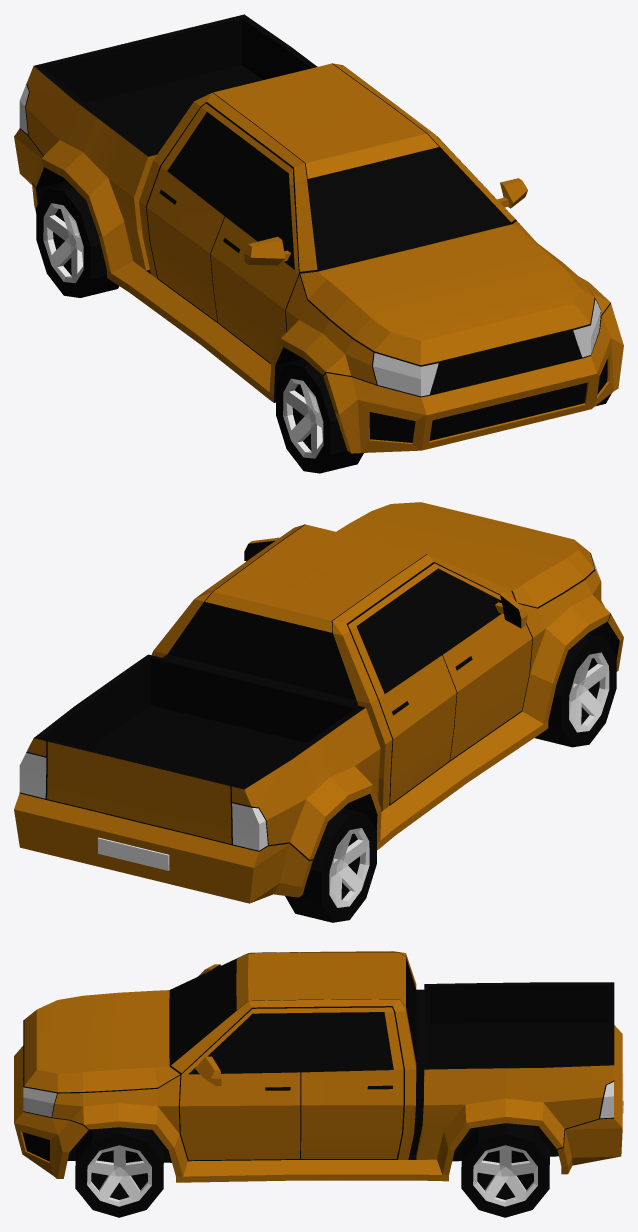
The model's file is Pickup.glb.
3 views of the same model, one above another, from view 1: azimuth 30°, elevation 25°; view 2: azimuth 150°, elevation 25°; view 3: azimuth 270°, elevation 25° (orthographic). The views are drawn at different scales.
Visible parts, largest first — view 1: Pickup; view 2: Pickup; view 3: Pickup.
Boxes of the visible parts, <box> form: Pickup: <box>14,14,623,473</box>; Pickup: <box>14,502,623,922</box>; Pickup: <box>14,951,623,1217</box>.
Size of the model in its own units: 3.53 by 2.72 by 8.1.
